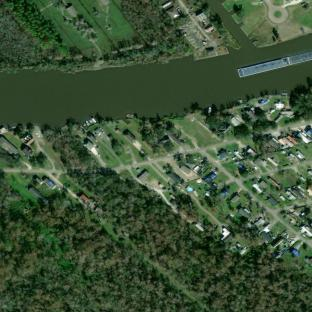Floresta: (0, 132, 312, 312), (103, 0, 189, 67), (0, 0, 69, 71), (139, 121, 174, 152), (289, 84, 312, 120), (239, 227, 257, 243)
